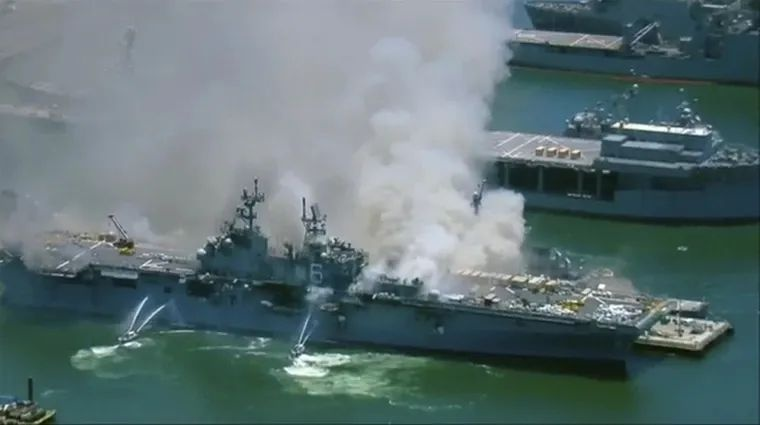warship: (1, 183, 720, 371)
